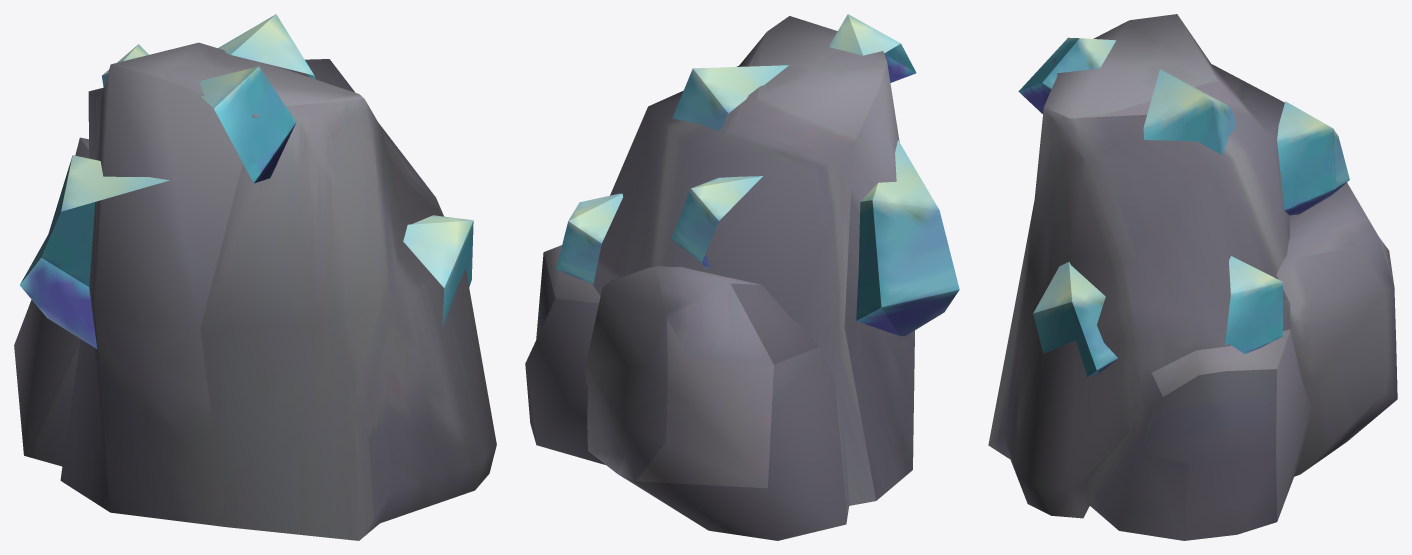
The model's file is RockLargeDiamond.fbx.
The picture shows the model from 3 angles, left to right: view 1: azimuth 30°, elevation 25°; view 2: azimuth 150°, elevation 25°; view 3: azimuth 270°, elevation 25°; orthographic projection. The views are drawn at different scales.
Parts seen in each view (by area): view 1: RockMesh, Resource1 (3), Resource3, Resource2, Resource2 (1); view 2: RockMesh, Resource1 (3), Resource2 (1), Resource1 (1), Resource1 (2), Resource3; view 3: RockMesh, Resource1 (1), Resource2, Resource2 (1), Resource1 (2), Resource3.
Boxes of the visible parts, x1,y1,x2,y2 form: RockMesh: (14,42,496,540); Resource1 (3): (20,155,169,348); Resource3: (199,66,296,183); Resource2: (403,215,473,327); Resource2 (1): (218,14,315,79); RockMesh: (525,16,914,540); Resource1 (3): (856,140,959,336); Resource2 (1): (672,65,788,130); Resource1 (1): (671,176,762,268); Resource1 (2): (556,193,622,285); Resource3: (828,14,916,82); RockMesh: (988,14,1397,540); Resource1 (1): (1277,101,1349,215); Resource2: (1033,262,1117,377); Resource2 (1): (1143,69,1235,155); Resource1 (2): (1225,256,1282,353); Resource3: (1018,37,1116,113).
Size of what is drawn, in the model's own units: 2.25 by 2.12 by 2.03.
